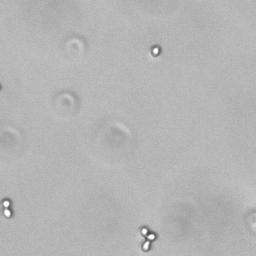1: (149, 43, 162, 58)
2: (1, 198, 15, 220)
3a: (137, 223, 159, 254)
